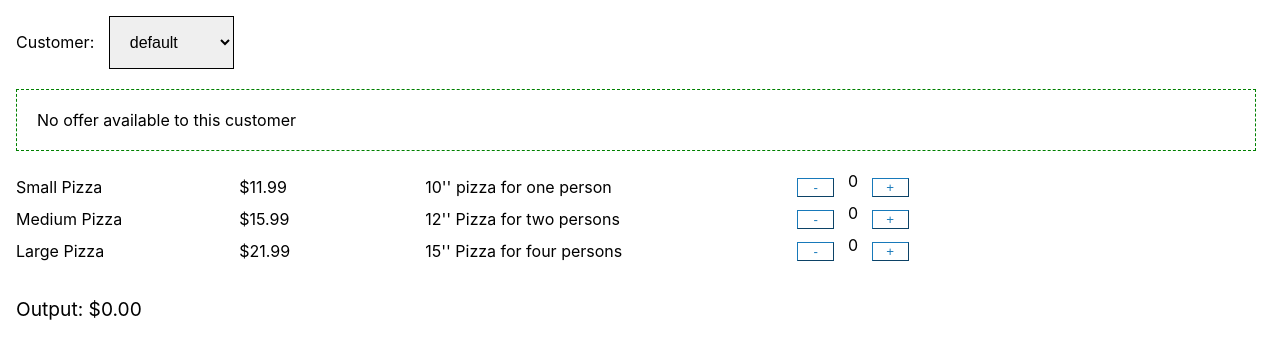
Scenario: Sample test cases › default : 1 pizza of each type
The width and height of the screenshot is (1273, 338).
// select microsoft
Select "Microsoft" in the dropdown with id "idCustomerDropdown" at {"x": 172, "y": 43}, box 109,16 -> 234,69
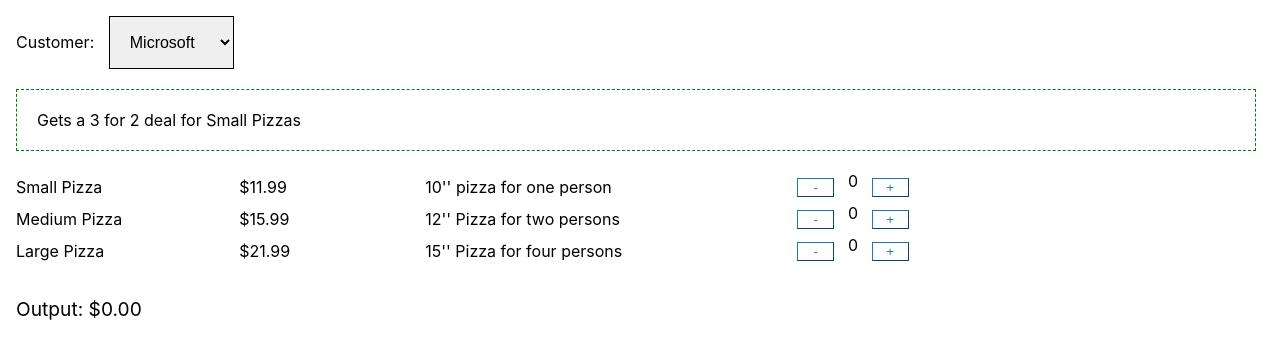
// add 1 small pizza
Click the button with id "idBtnAddSmallPizza" at {"x": 891, "y": 188}, box 872,178 -> 909,197
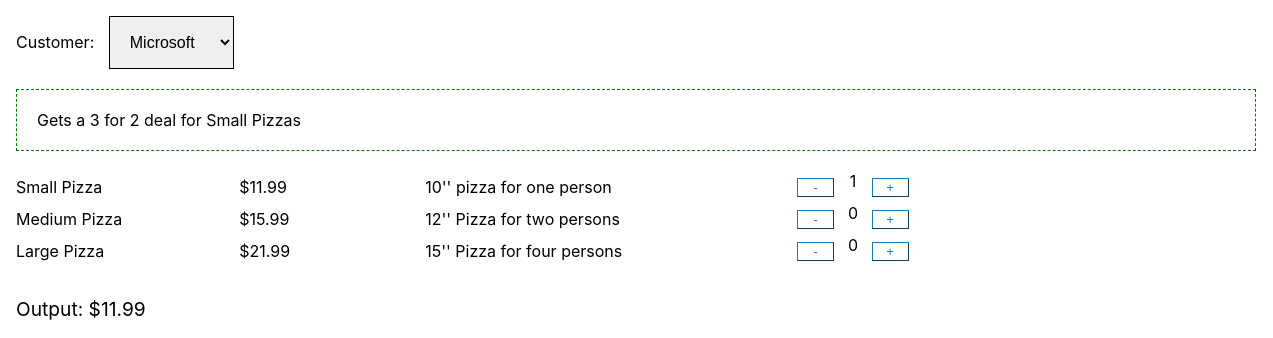
// add 1 medium pizza
Click the button with id "idBtnAddMediumPizza" at {"x": 891, "y": 220}, box 872,210 -> 909,229
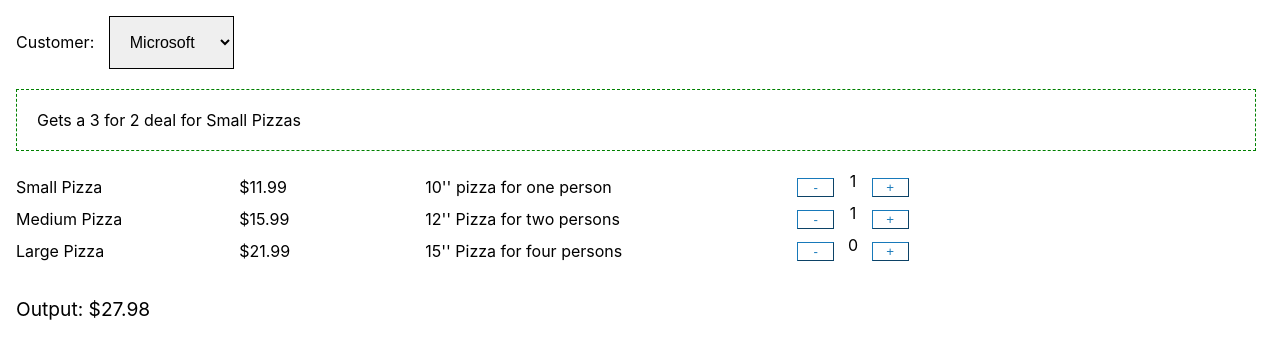
// add 1 large pizza
Click the button with id "idBtnAddLargePizza" at {"x": 891, "y": 252}, box 872,242 -> 909,261
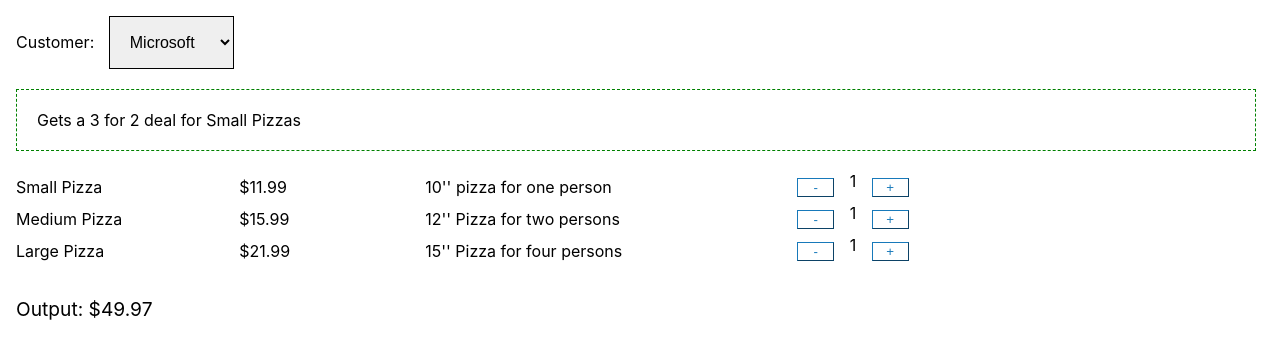
Now the text "$49.97" is shown, box 16,297 -> 153,321
